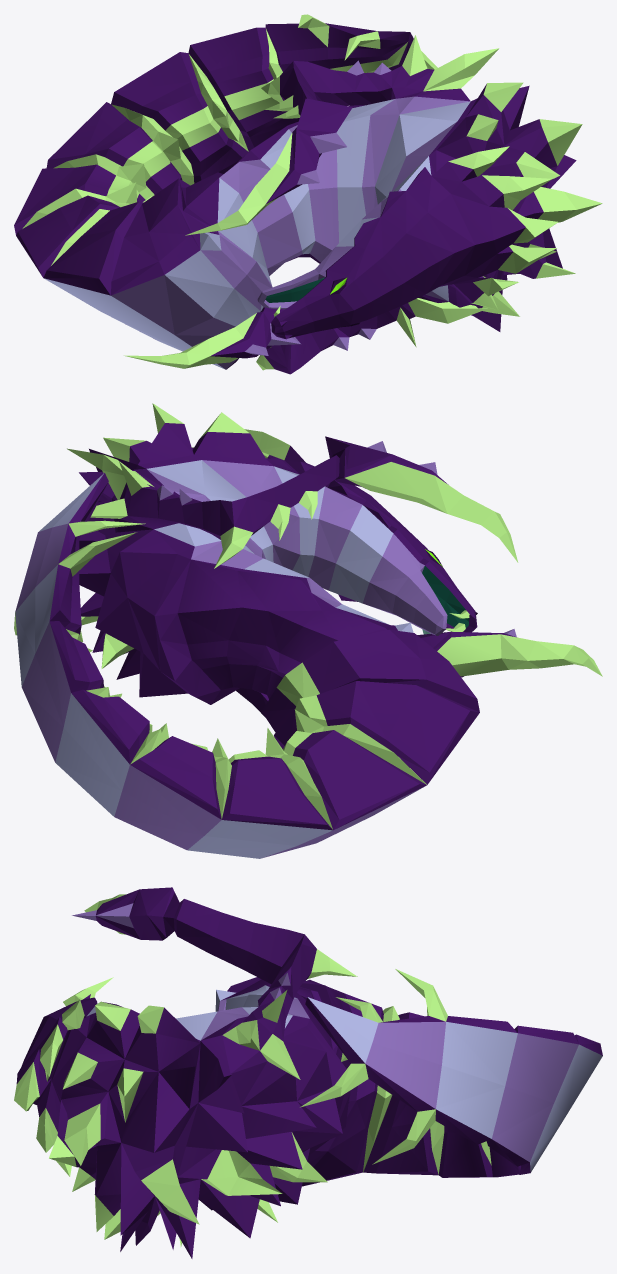
3 renders of one model, top to bottom at view 1: azimuth 30°, elevation 25°; view 2: azimuth 150°, elevation 25°; view 3: azimuth 270°, elevation 25°, orthographic. The views are drawn at different scales.
Visible parts, largest first — view 1: Alien_Serpent; view 2: Alien_Serpent; view 3: Alien_Serpent.
Boxes of the visible parts, bbox=[...] form: Alien_Serpent: bbox=[14, 14, 602, 374]; Alien_Serpent: bbox=[14, 403, 602, 858]; Alien_Serpent: bbox=[14, 887, 602, 1258].
Bounding box in the file's own units: 238 × 149 × 240.
Materials: 1 (1 with a texture image).
